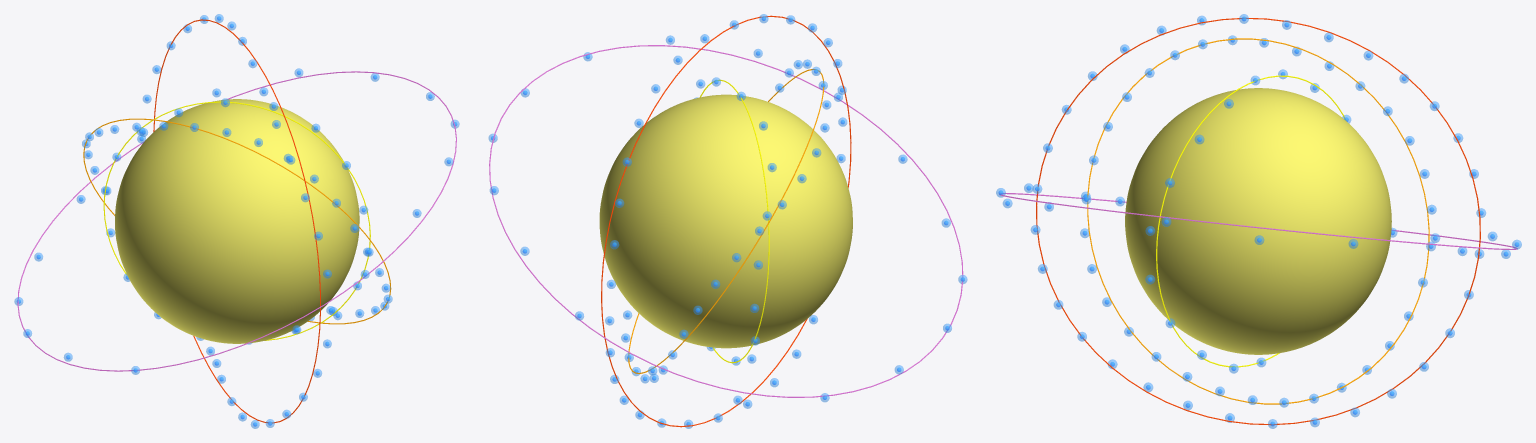
3 views of the same model, side by side, from view 1: azimuth 30°, elevation 25°; view 2: azimuth 150°, elevation 25°; view 3: azimuth 270°, elevation 25° (orthographic). The views are drawn at different scales.
Visible parts, largest first — view 1: Mt, object 191, object 126, object 24, object 61; view 2: Mt, object 191, object 126, object 61, object 24; view 3: Mt, object 126, object 61, object 191, object 24.
Boxes of the visible parts, left/top/right/bottom form: Mt: left=115, top=99, right=359, bottom=343; object 191: left=17, top=71, right=456, bottom=371; object 126: left=153, top=19, right=320, bottom=423; object 24: left=103, top=101, right=370, bottom=340; object 61: left=83, top=118, right=391, bottom=324; Mt: left=599, top=94, right=852, bottom=348; object 191: left=489, top=45, right=963, bottom=397; object 126: left=601, top=15, right=851, bottom=427; object 61: left=628, top=69, right=824, bottom=373; object 24: left=700, top=79, right=769, bottom=363; Mt: left=1125, top=88, right=1391, bottom=354; object 126: left=1036, top=17, right=1480, bottom=425; object 61: left=1087, top=38, right=1429, bottom=404; object 191: left=999, top=193, right=1517, bottom=249; object 24: left=1156, top=75, right=1344, bottom=367.
Bounding box in the file's own units: 7.97 × 7.35 × 8.48.
